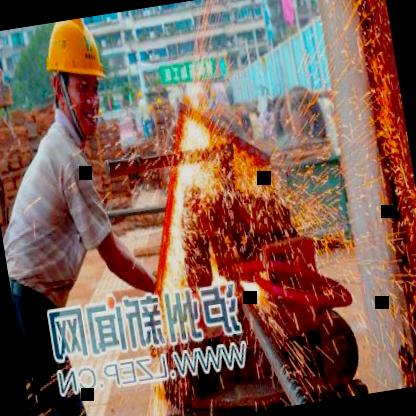helmet: (34, 14, 118, 144)
